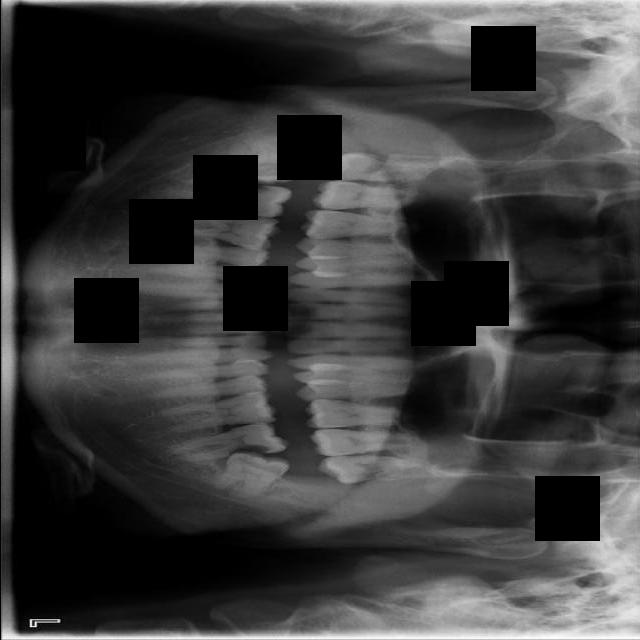3M ESPE Implant: (323, 150, 438, 186)
52: (227, 443, 269, 457), (238, 182, 266, 194)
73: (88, 610, 92, 618)
BioHorizons Implant: (309, 428, 414, 460)
BioLife Implant: (316, 451, 422, 487)
Biomet 3i Implant: (209, 445, 290, 509)
Blue Sky Bio Implant: (176, 419, 289, 463)
Caries: (309, 179, 426, 211)
Implant: (178, 173, 292, 221)
Keystone Dental Implant: (219, 134, 295, 191)
